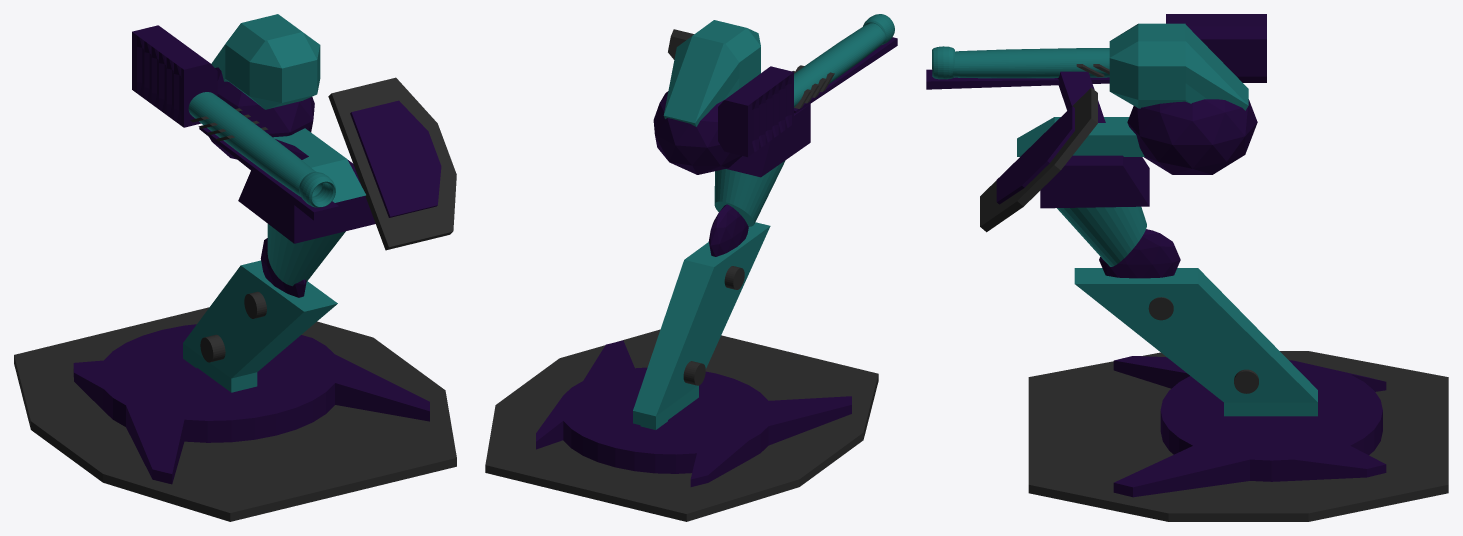
File: Turm 23.fbx
3 views of the same model, side by side, from view 1: azimuth 30°, elevation 25°; view 2: azimuth 150°, elevation 25°; view 3: azimuth 270°, elevation 25° (orthographic). The views are drawn at different scales.
Visible parts, largest first — view 1: Cube.014, Cube; view 2: Cube.014, Cube; view 3: Cube, Cube.014.
Part boxes in pixels (bbox=[...]): Cube.014: bbox=[14, 307, 456, 521]; Cube: bbox=[132, 14, 456, 392]; Cube.014: bbox=[485, 329, 878, 521]; Cube: bbox=[633, 14, 897, 429]; Cube: bbox=[926, 14, 1317, 416]; Cube.014: bbox=[1028, 351, 1448, 521].
Bounding box in the file's own units: 230 × 268 × 313.
